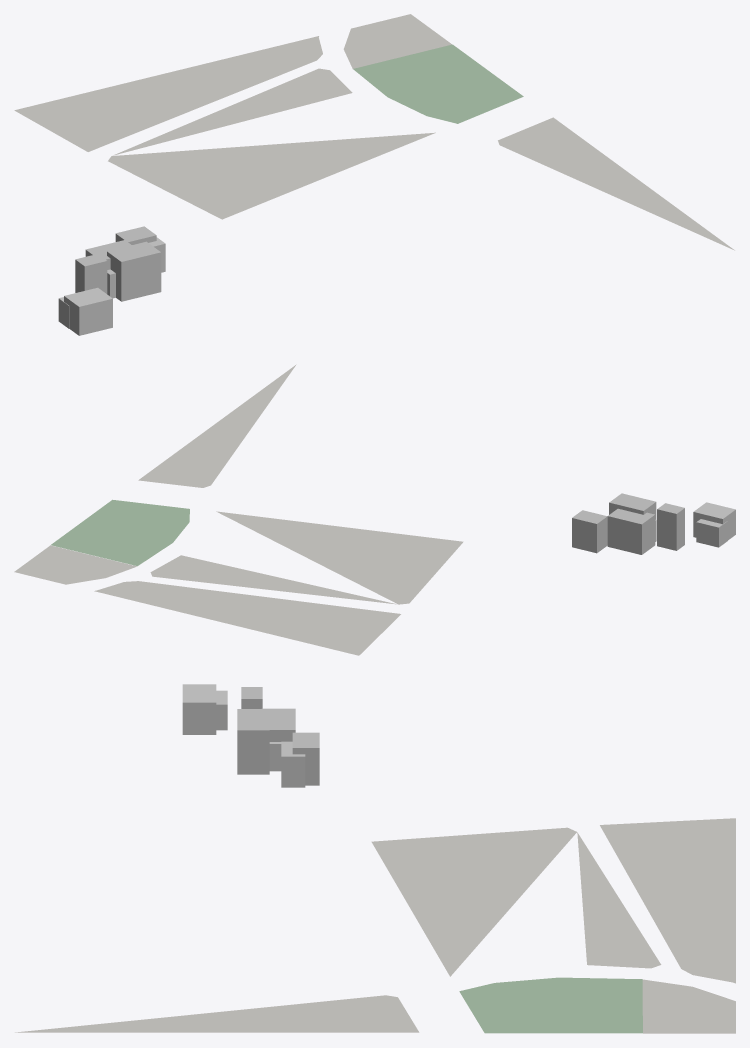
Rendered from 96_104_mid.glb.
The picture shows the model from 3 angles, top to bottom: view 1: azimuth 30°, elevation 25°; view 2: azimuth 150°, elevation 25°; view 3: azimuth 270°, elevation 25°; orthographic projection. The views are drawn at different scales.
Bounding box in the file's own units: 507 × 37.17 × 492.
